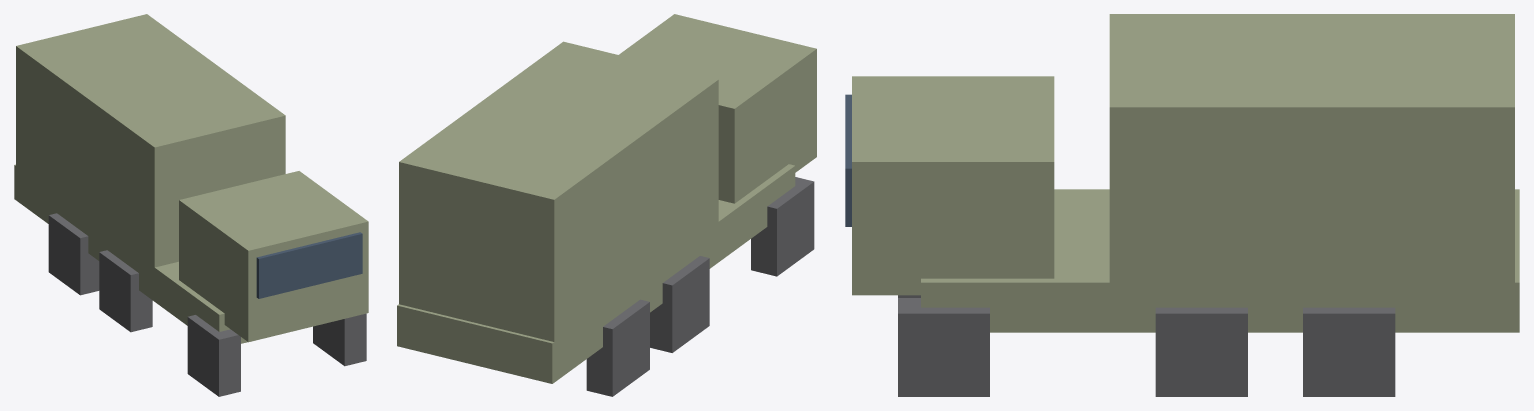
Rendered from truck.glb.
The picture shows the model from 3 angles, left to right: view 1: azimuth 30°, elevation 25°; view 2: azimuth 150°, elevation 25°; view 3: azimuth 270°, elevation 25°; orthographic projection. The views are drawn at different scales.
Visible parts, largest first — view 1: truck; view 2: truck; view 3: truck.
Part boxes in pixels (bbox=[...]): truck: bbox=[14, 14, 368, 396]; truck: bbox=[397, 14, 816, 396]; truck: bbox=[845, 14, 1519, 396].
Size of the model in its own units: 2.7 by 3.4 by 7.32.
